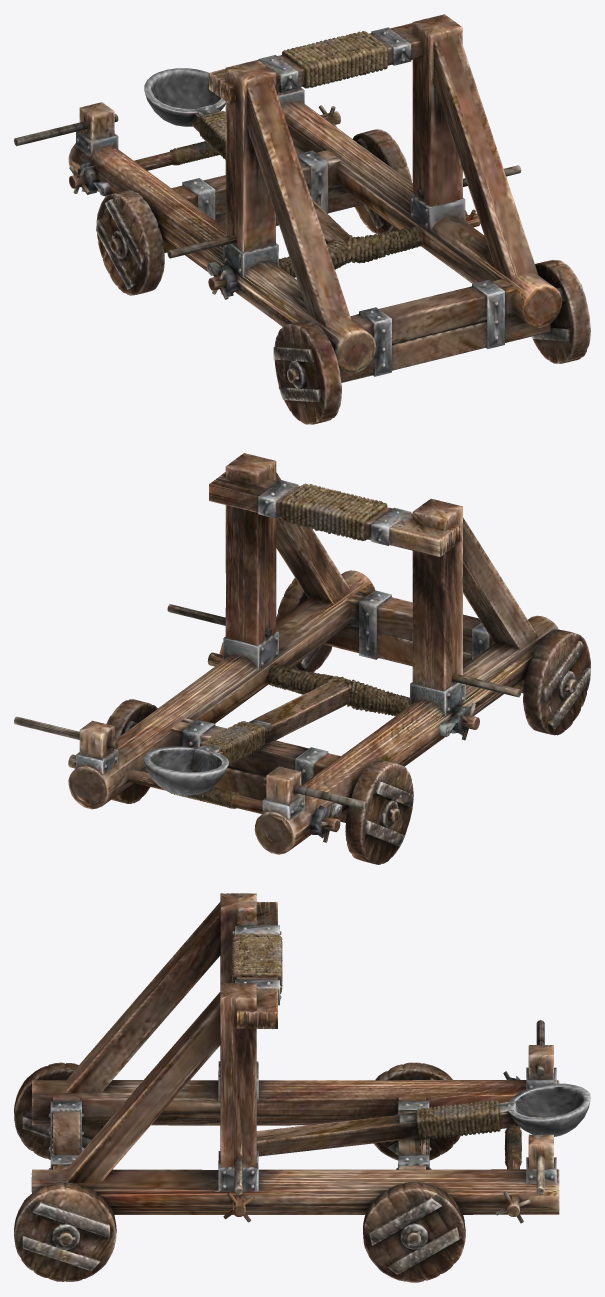
File: MZ4250 - Catapult.glb
3 views of the same model, one above another, from view 1: azimuth 30°, elevation 25°; view 2: azimuth 150°, elevation 25°; view 3: azimuth 270°, elevation 25° (orthographic).
Visible parts, largest first — view 1: Catapult.001; view 2: Catapult.001; view 3: Catapult.001.
Part boxes in pixels (left/top/right/bottom): Catapult.001: left=14, top=14, right=590, bottom=424; Catapult.001: left=14, top=453, right=590, bottom=864; Catapult.001: left=14, top=893, right=590, bottom=1282.
Bounding box in the file's own units: 44.91 × 34.06 × 65.23.
1 material, 1 textured.
